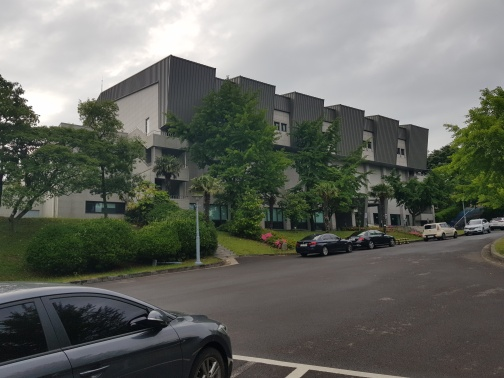Gym: (89, 52, 440, 223), (165, 58, 432, 172)
